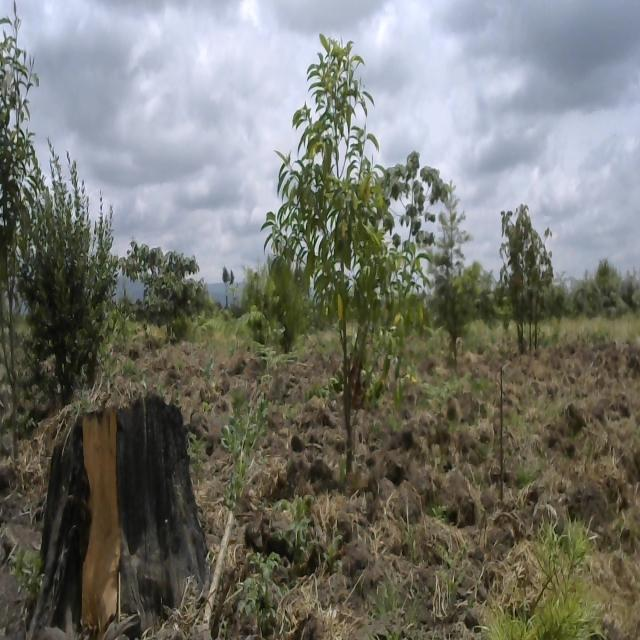Podocarpus falcatus: (482, 523, 599, 640)
Salix alba: (21, 132, 115, 398)
cedrus: (266, 238, 302, 353)
other: (262, 34, 426, 456), (493, 204, 558, 358), (432, 178, 478, 370), (120, 235, 201, 338)
